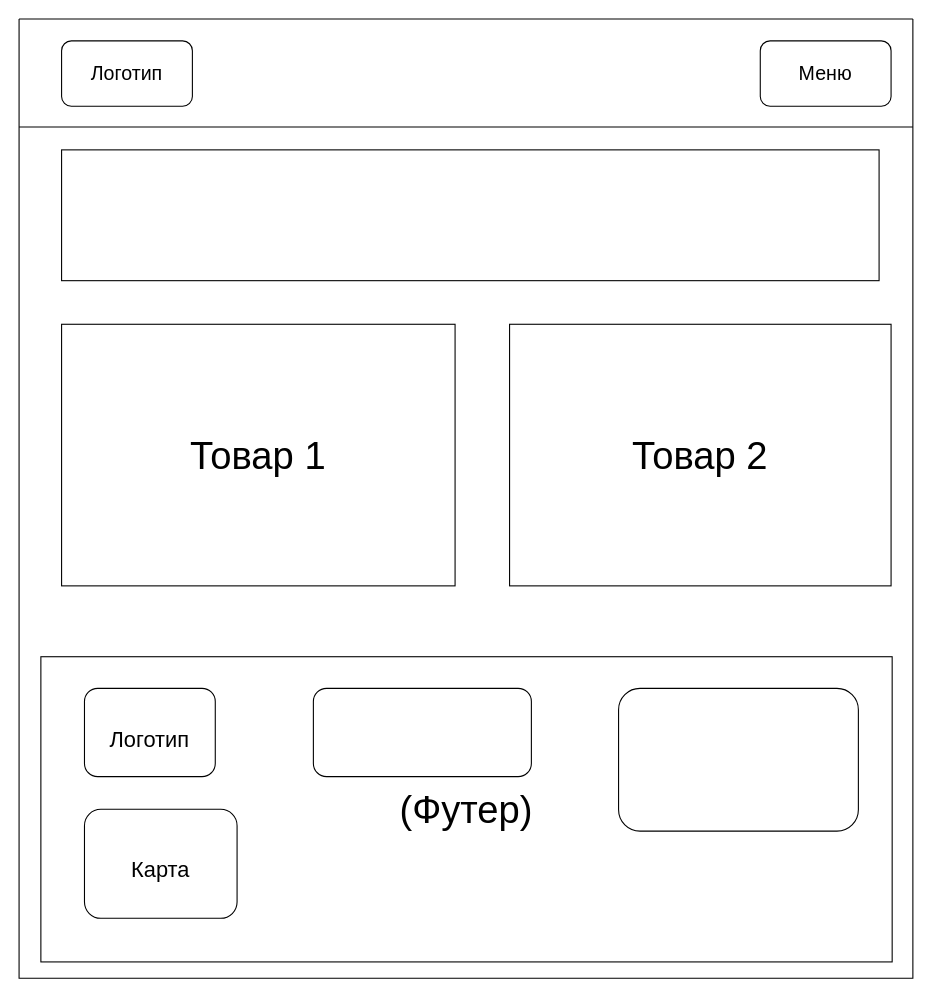
This 933x997 diagram has some shape labels left out. Each missing label, with the centre of its shape:
"Название раздела каталога" belongs at point 469,215.
"Оставьте свой отзыв" belongs at point 737,759.
"Полезные ссылки" belongs at point 421,732.
